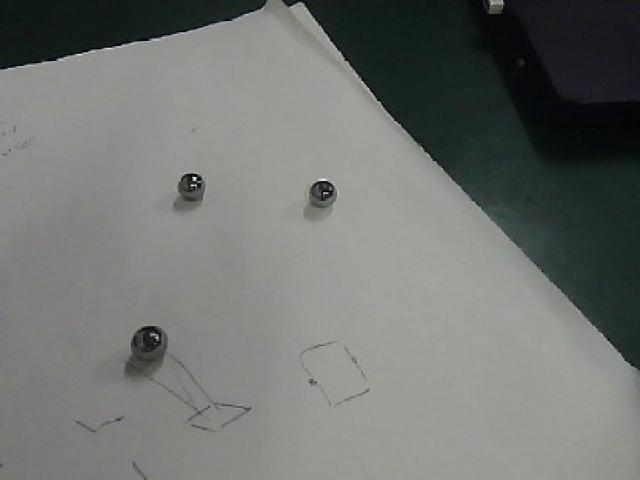steel-ball: (123, 308, 199, 368), (172, 150, 222, 212), (304, 166, 348, 215)
